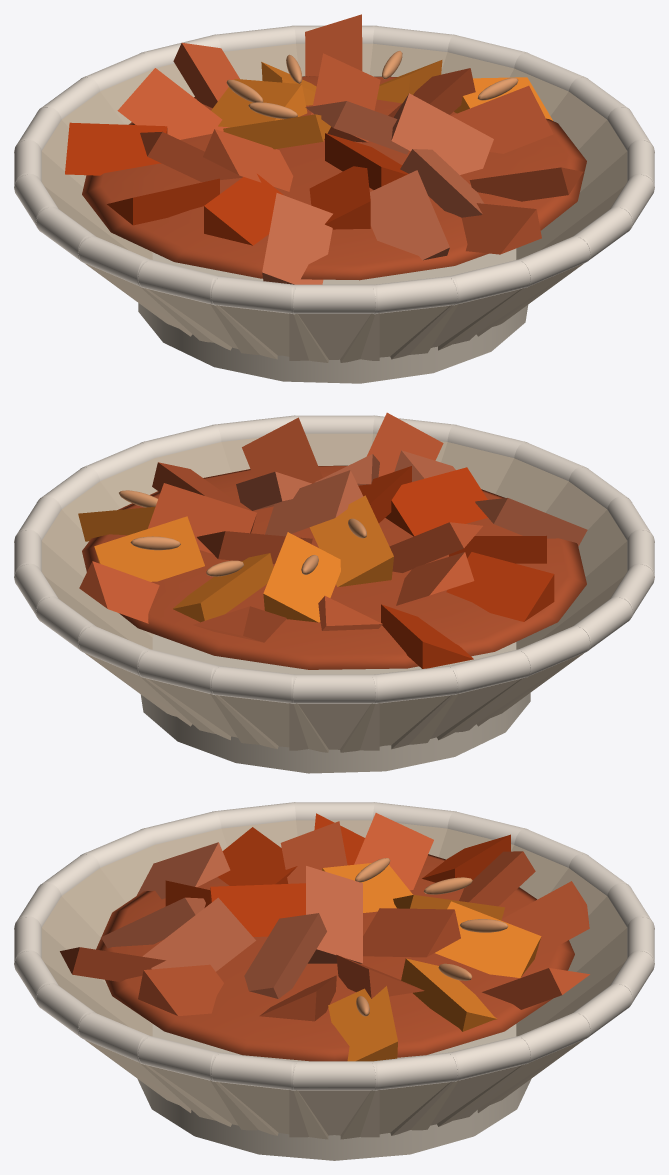
The model's file is CMU3DFoodSaladKimchiCloud.glb.
The picture shows the model from 3 angles, top to bottom: view 1: azimuth 30°, elevation 25°; view 2: azimuth 150°, elevation 25°; view 3: azimuth 270°, elevation 25°; orthographic projection.
Parts seen in each view (by area): view 1: kimchi bed, closed ceramic basin floor, folded cabbage leaf 16, folded cabbage leaf 21, folded cabbage leaf 06, folded cabbage leaf 23, folded cabbage leaf 15, folded cabbage leaf 13, folded cabbage leaf 14, folded cabbage leaf 24, flared hollow ceramic wall 17, flared hollow ceramic wall 18 (+60 smaller); view 2: kimchi bed, closed ceramic basin floor, folded cabbage leaf 18, folded cabbage leaf 08, folded cabbage leaf 07, folded cabbage leaf 02, folded cabbage leaf 17, folded cabbage leaf 01, folded cabbage leaf 09, folded cabbage leaf 12, folded cabbage leaf 19, flared hollow ceramic wall 09 (+61 smaller); view 3: kimchi bed, closed ceramic basin floor, folded cabbage leaf 01, folded cabbage leaf 11, folded cabbage leaf 06, folded cabbage leaf 04, folded cabbage leaf 12, folded cabbage leaf 22, folded cabbage leaf 19, folded cabbage leaf 03, folded cabbage leaf 20, folded cabbage leaf 17 (+63 smaller).
Part boxes in pixels (x1,y1,x2,y2): kimchi bed: [82, 76, 586, 280]; closed ceramic basin floor: [138, 248, 528, 383]; folded cabbage leaf 16: [370, 170, 449, 260]; folded cabbage leaf 21: [262, 193, 332, 284]; folded cabbage leaf 06: [391, 93, 493, 174]; folded cabbage leaf 23: [65, 122, 167, 175]; folded cabbage leaf 15: [117, 68, 229, 139]; folded cabbage leaf 13: [204, 174, 283, 245]; folded cabbage leaf 14: [451, 85, 553, 153]; folded cabbage leaf 24: [461, 203, 541, 254]; flared hollow ceramic wall 17: [289, 313, 379, 360]; flared hollow ceramic wall 18: [340, 304, 458, 362]; kimchi bed: [82, 465, 586, 669]; closed ceramic basin floor: [140, 634, 530, 773]; folded cabbage leaf 18: [446, 552, 554, 621]; folded cabbage leaf 08: [385, 467, 487, 536]; folded cabbage leaf 07: [263, 532, 340, 622]; folded cabbage leaf 02: [309, 495, 393, 587]; folded cabbage leaf 17: [94, 516, 204, 581]; folded cabbage leaf 01: [265, 470, 363, 536]; folded cabbage leaf 09: [148, 483, 256, 553]; folded cabbage leaf 12: [173, 553, 273, 622]; folded cabbage leaf 19: [242, 417, 322, 483]; flared hollow ceramic wall 09: [289, 703, 379, 750]; kimchi bed: [96, 854, 574, 1061]; closed ceramic basin floor: [137, 1024, 531, 1160]; folded cabbage leaf 01: [306, 866, 362, 963]; folded cabbage leaf 11: [142, 897, 255, 971]; folded cabbage leaf 06: [244, 913, 326, 998]; folded cabbage leaf 04: [363, 908, 460, 957]; folded cabbage leaf 12: [435, 901, 541, 978]; folded cabbage leaf 22: [328, 986, 397, 1061]; folded cabbage leaf 19: [138, 964, 223, 1016]; folded cabbage leaf 03: [210, 883, 305, 936]; folded cabbage leaf 20: [501, 881, 589, 953]; folded cabbage leaf 17: [401, 958, 496, 1031].
Bounding box in the file's own units: 0.7324 × 0.2837 × 0.7324.
